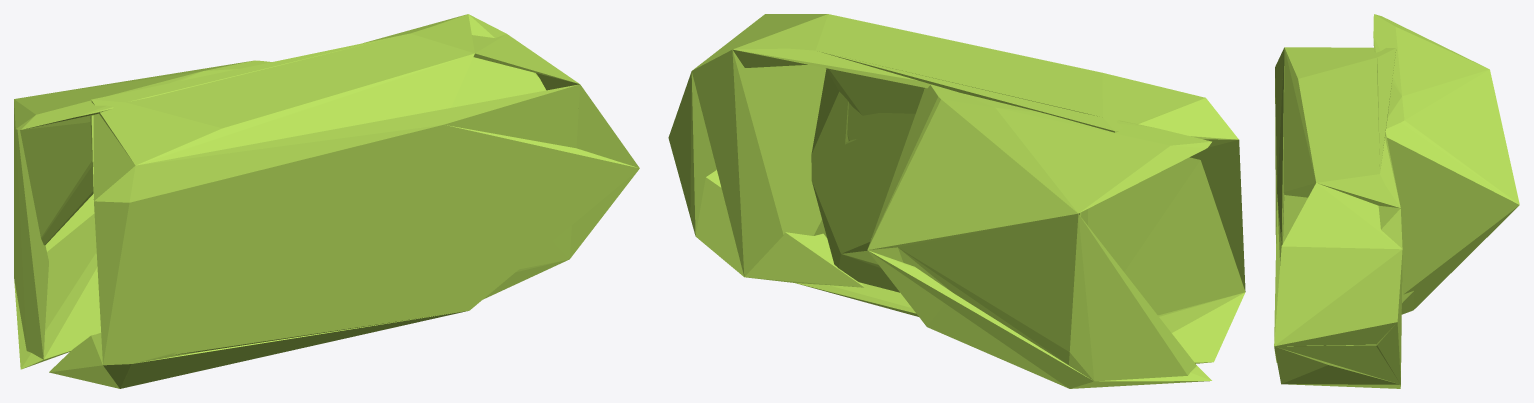
3 renders of one model, left to right at view 1: azimuth 30°, elevation 25°; view 2: azimuth 150°, elevation 25°; view 3: azimuth 270°, elevation 25°, orthographic. The views are drawn at different scales.
Visible parts, largest first — view 1: right_link2; view 2: right_link2; view 3: right_link2.
Boxes of the visible parts, x1=… form: right_link2: x1=14, y1=14, x2=639, y2=388; right_link2: x1=668, y1=14, x2=1245, y2=388; right_link2: x1=1274, y1=14, x2=1519, y2=388.
Size of the model in its own units: 0.2587 by 0.106 by 0.1195.
